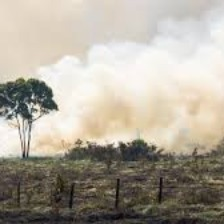incendio: (64, 54, 204, 132), (60, 115, 216, 181), (29, 98, 61, 161)
